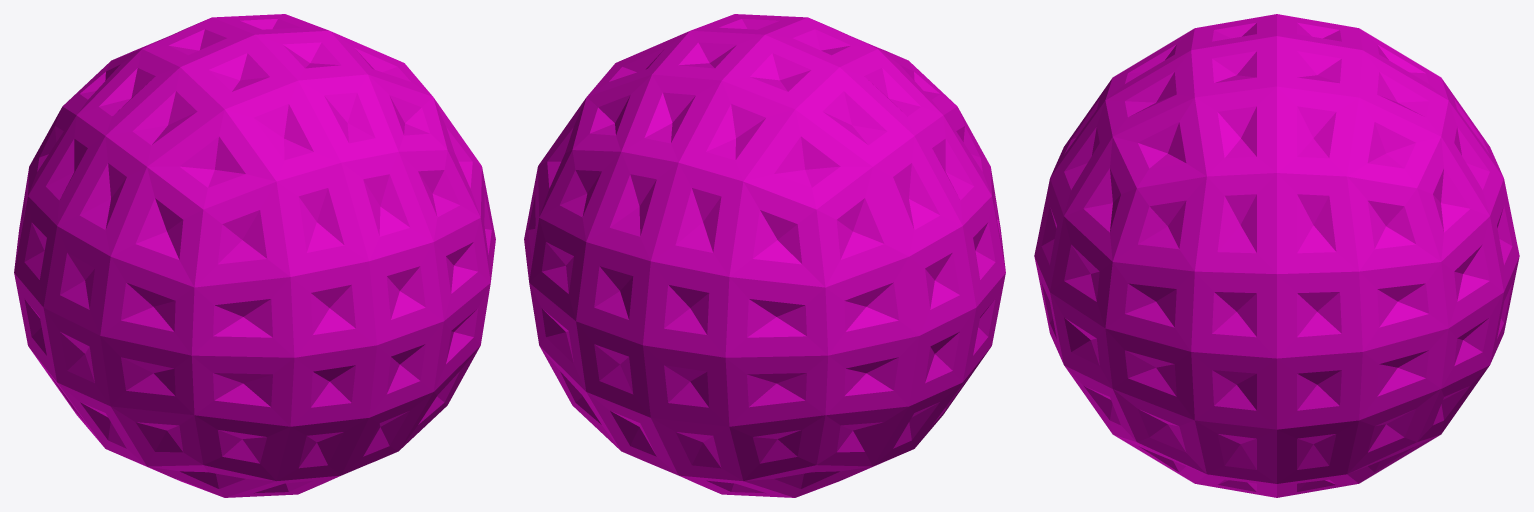
Rendered from GolfBall_01.fbx.
The picture shows the model from 3 angles, left to right: view 1: azimuth 30°, elevation 25°; view 2: azimuth 150°, elevation 25°; view 3: azimuth 270°, elevation 25°; orthographic projection.
Visible parts, largest first — view 1: GolfBall_01; view 2: GolfBall_01; view 3: GolfBall_01.
Part boxes in pixels (<box>): GolfBall_01: <box>14,14,495,497</box>; GolfBall_01: <box>524,14,1005,497</box>; GolfBall_01: <box>1034,14,1519,497</box>.
Size of the model in its own units: 4.66 by 4.66 by 4.66.
